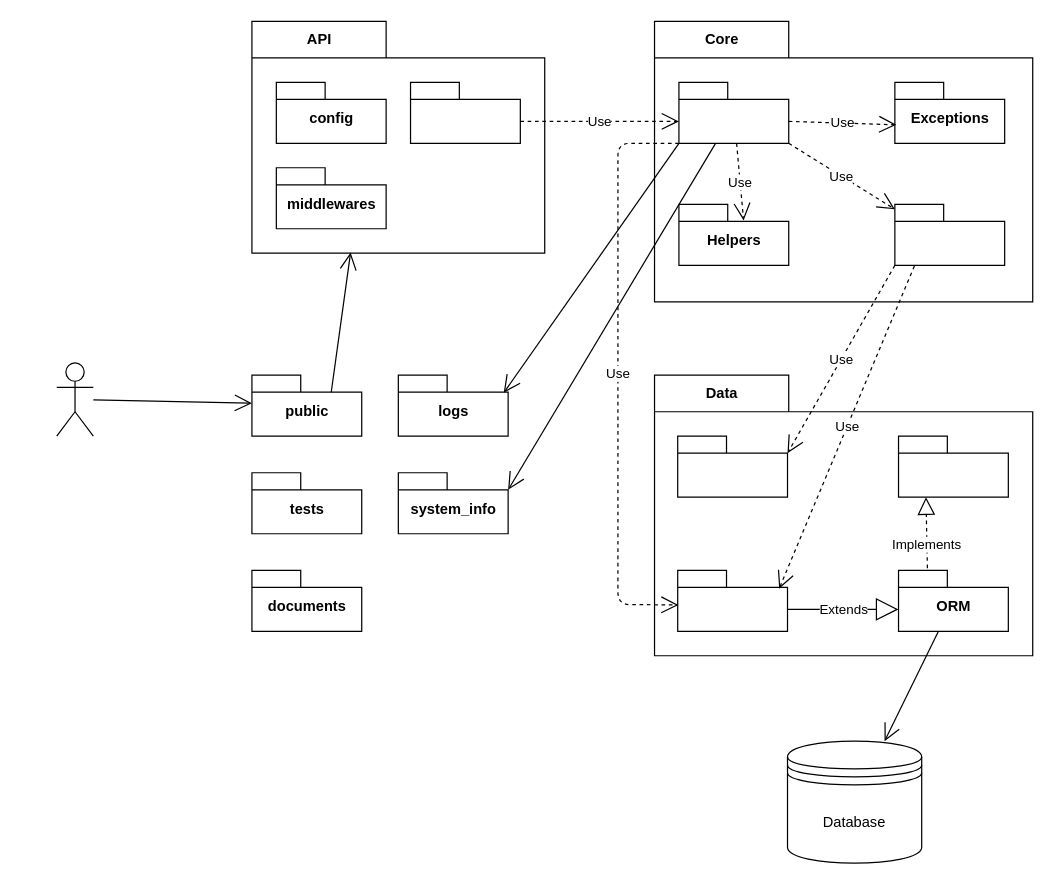
Some shapes in this 1054 by 885 pixel diagram are drawn without their labels. Each missing label, with the centre of its shape:
Controllers: the point at 733,112
Enums: the point at 732,466
Interfaces: the point at 952,466
Models: the point at 732,600
REST API Client: the point at 74,399
routes: the point at 464,112
Services: the point at 949,234
